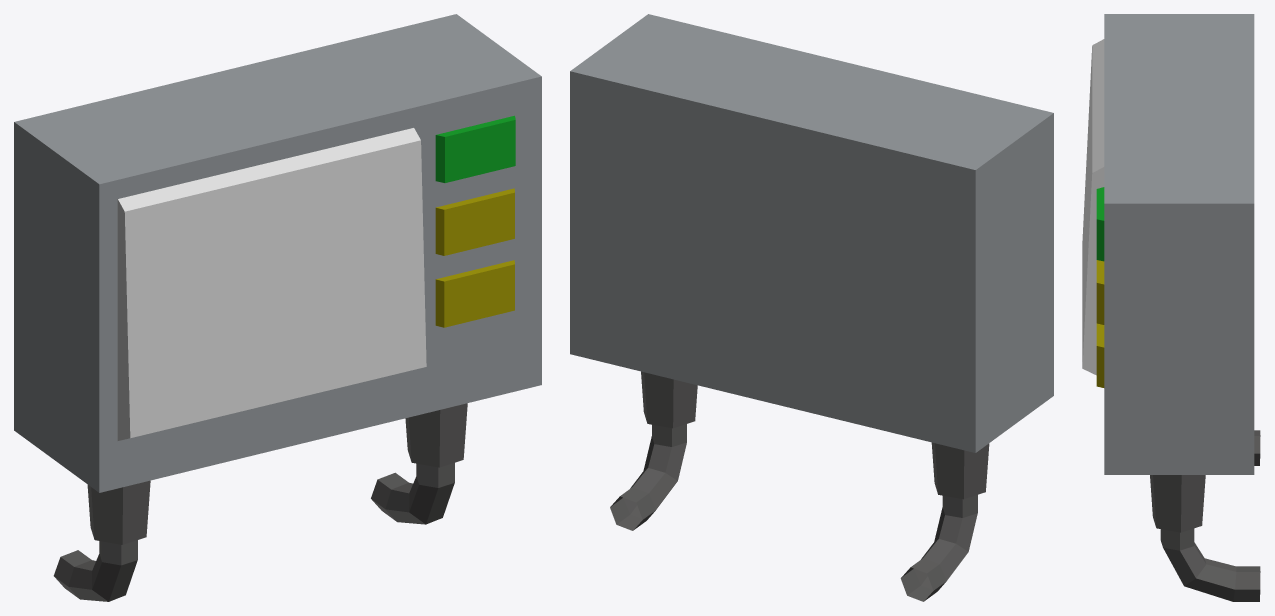
File: Hackable_module_C.fbx
3 views of the same model, side by side, from view 1: azimuth 30°, elevation 25°; view 2: azimuth 150°, elevation 25°; view 3: azimuth 270°, elevation 25° (orthographic). The views are drawn at different scales.
Parts seen in each view (by area): view 1: Hackable_module_C, Hackable_module_C_Screen; view 2: Hackable_module_C; view 3: Hackable_module_C, Hackable_module_C_Screen.
Boxes of the visible parts, box(x1,y1,x2,y2) form: Hackable_module_C: box(14, 14, 541, 601); Hackable_module_C_Screen: box(117, 128, 426, 440); Hackable_module_C: box(570, 14, 1053, 601); Hackable_module_C: box(1096, 14, 1260, 601); Hackable_module_C_Screen: box(1082, 39, 1104, 375).
Size of the model in its own units: 0.6 by 0.6244 by 0.2379.
